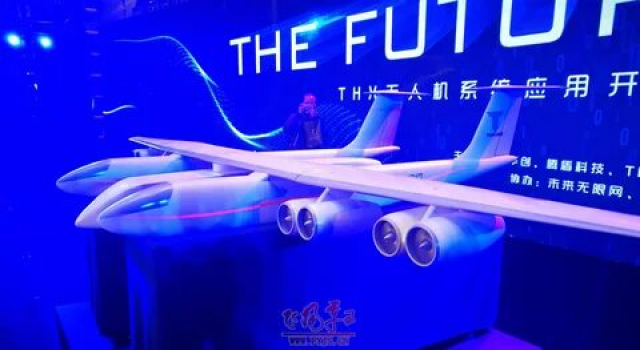military drone: (56, 85, 640, 267)
